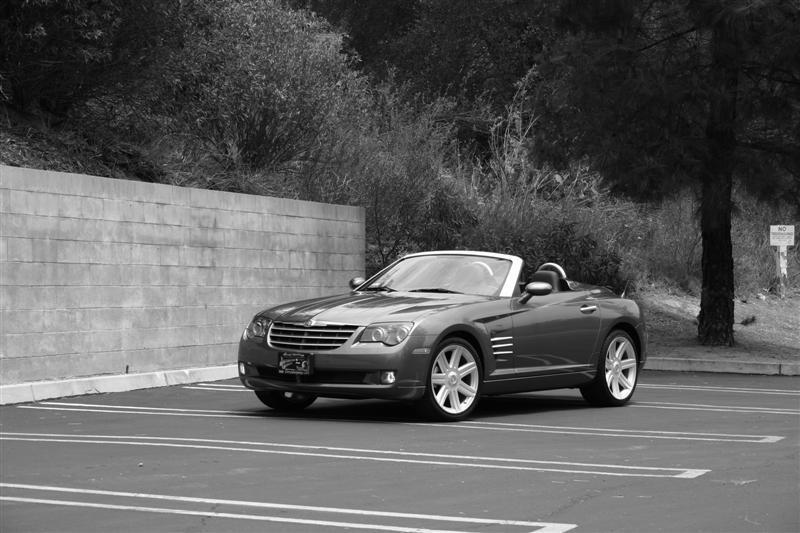car: (237, 249, 645, 422)
